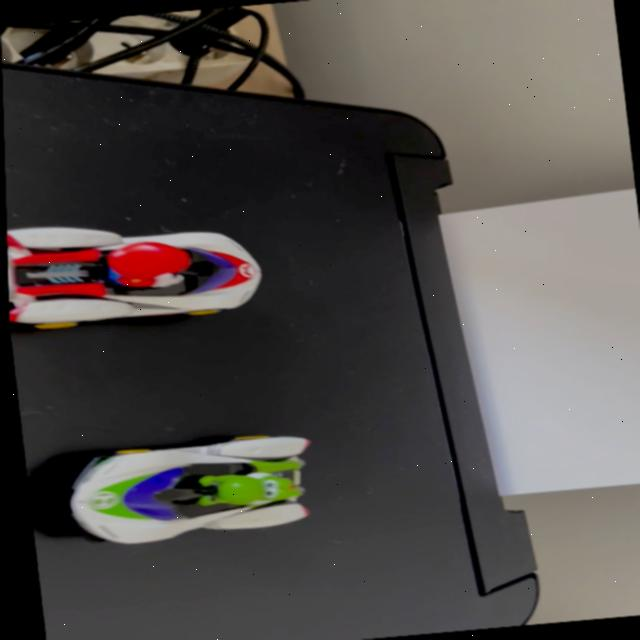mario: (5, 201, 280, 342)
yoshi: (39, 414, 336, 558)
